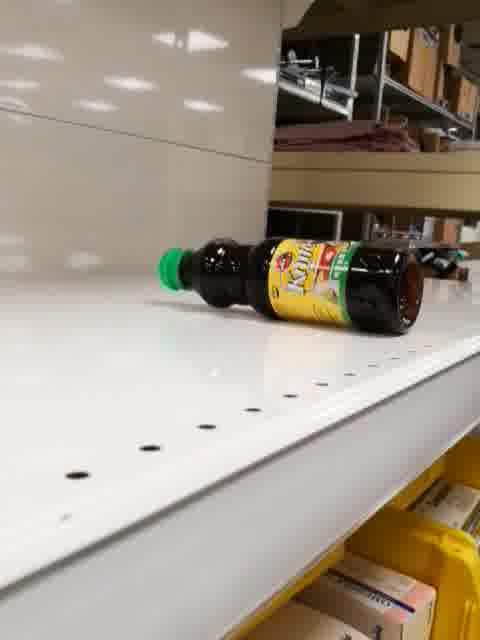cookingoil: (156, 236, 426, 339)
